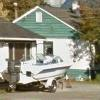Boat: (16, 54, 73, 91)
